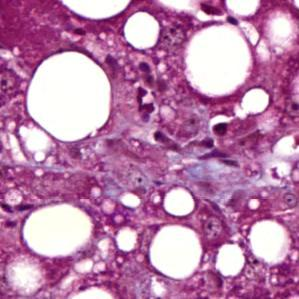steatosis: (20, 52, 112, 144), (20, 205, 97, 254), (148, 224, 204, 282), (122, 7, 161, 52), (162, 180, 196, 217)
